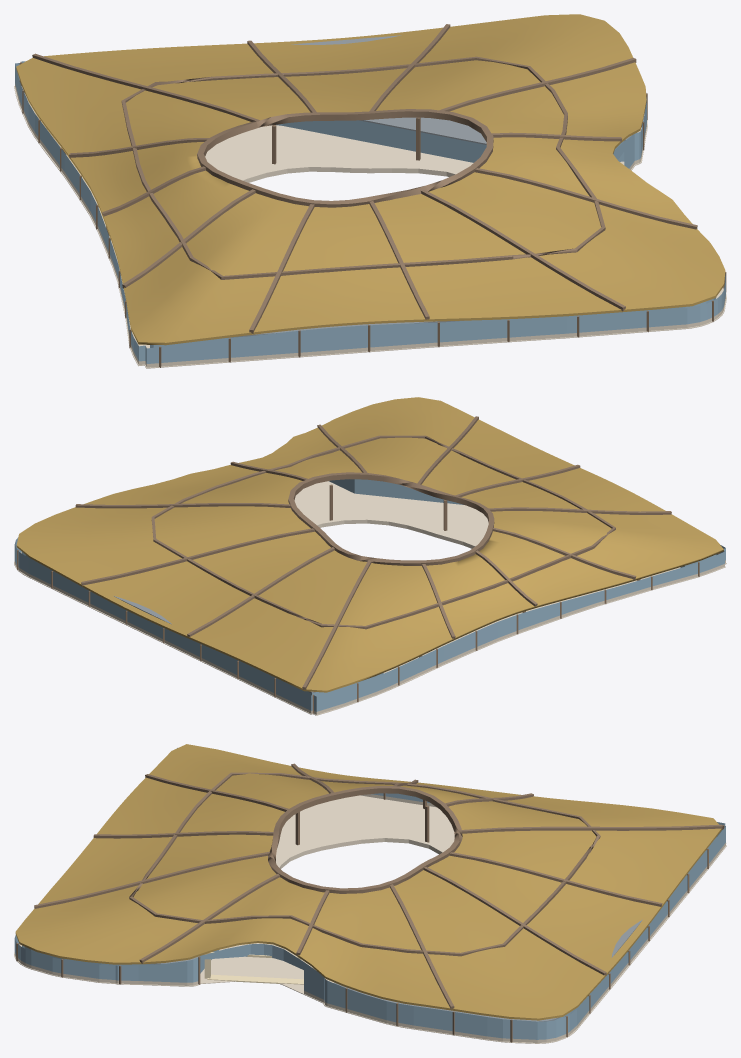
3 renders of one model, top to bottom at view 1: azimuth 30°, elevation 25°; view 2: azimuth 150°, elevation 25°; view 3: azimuth 270°, elevation 25°, orthographic. The views are drawn at different scales.
Visible parts, largest first — view 1: trim, metal, glass, stone, roof; view 2: trim, metal, glass, stone; view 3: trim, metal, stone, glass, entrance, roof.
Part boxes in pixels (x1=…): trim: x1=16, y1=14, x2=725, y2=345; metal: x1=19, y1=24, x2=726, y2=367; glass: x1=15, y1=61, x2=725, y2=363; stone: x1=14, y1=83, x2=726, y2=368; roof: x1=228, y1=35, x2=631, y2=337; trim: x1=16, y1=397, x2=723, y2=692; metal: x1=17, y1=416, x2=719, y2=713; glass: x1=14, y1=479, x2=725, y2=711; stone: x1=14, y1=481, x2=726, y2=715; trim: x1=15, y1=744, x2=722, y2=1020; metal: x1=16, y1=763, x2=724, y2=1042; stone: x1=14, y1=794, x2=726, y2=1043; glass: x1=14, y1=748, x2=725, y2=1039; entrance: x1=204, y1=952, x2=316, y2=984; roof: x1=146, y1=919, x2=642, y2=1021.
Size of the model in its own units: 165 by 15.25 by 177.
